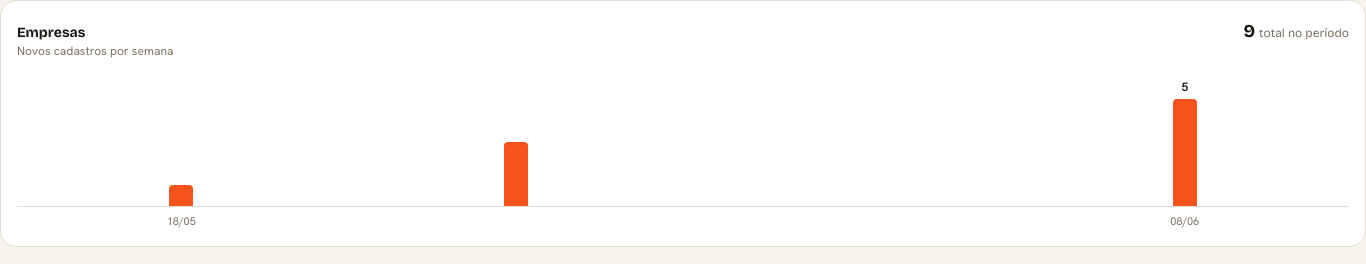
Test: GrowthChart › mostra o valor e a semana da barra em foco no lugar do total, ao passar o mouse
Hover over the button named "semana de 25/05: 3": {"x": 516, "y": 152} [352,99,680,206]
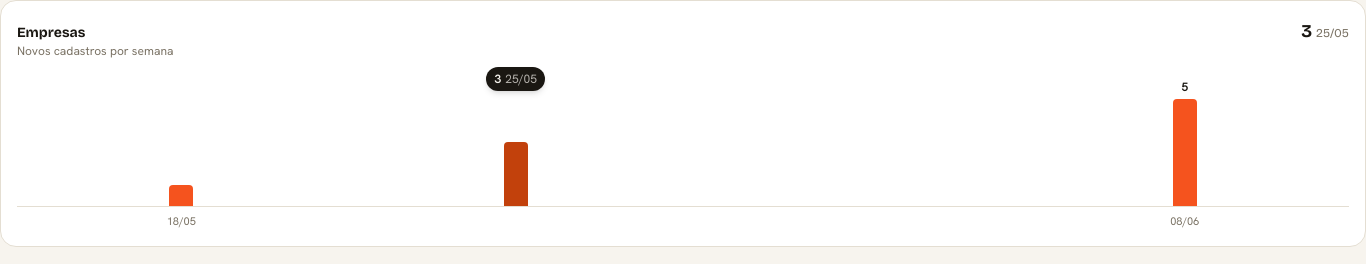
expect the text "25/05" is shown 2 times: met, box [1316,26,1349,40]; [505,71,537,87]
expect the text "total no período" is gone: met
Move the pointer off the button named "semana de 25/05: 3", box [352,99,680,206]
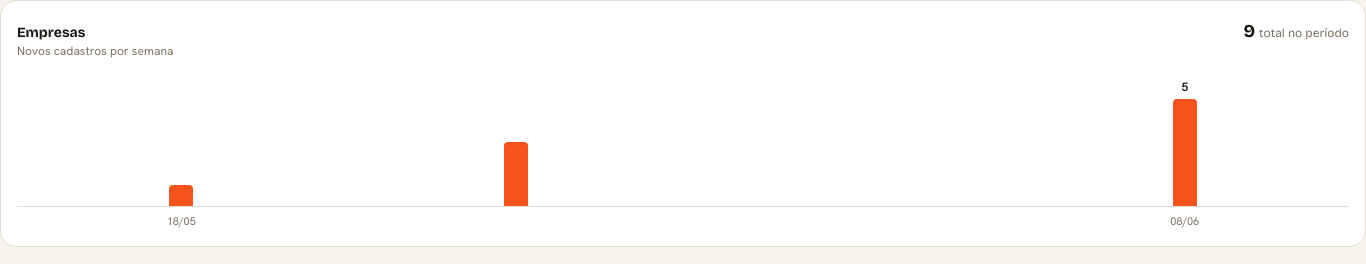
expect the text "total no período" is shown: met, box [1259,26,1349,40]
